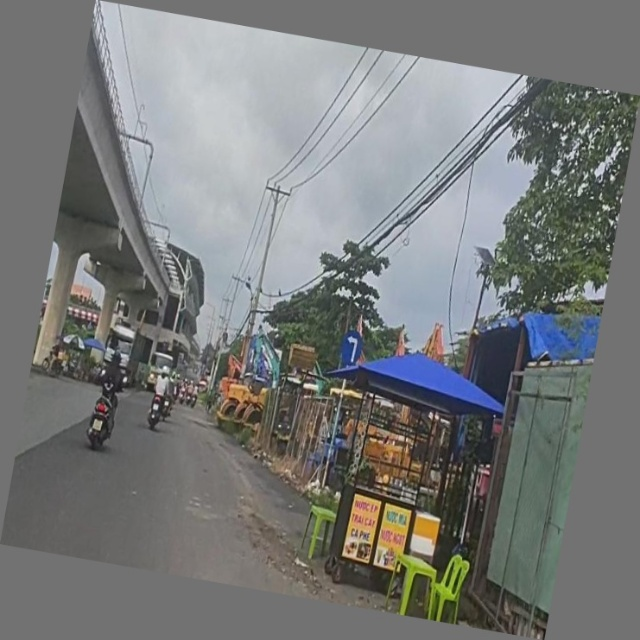R.301e: (337, 327, 365, 369)
